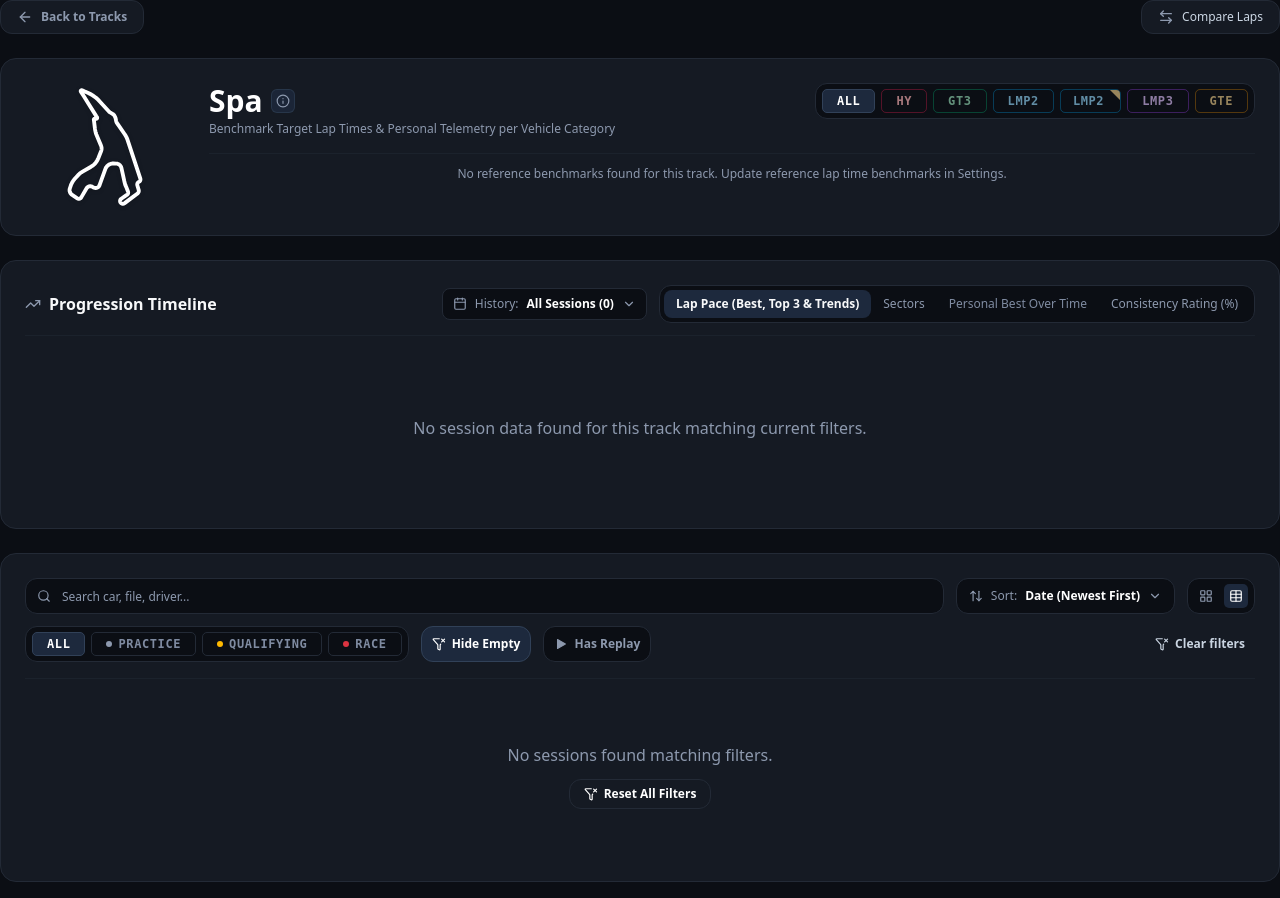
Test: TrackDetail component › provides Reset All Filters button when car model is the sole active filter and clears it on click
This screenshot has width=1280, height=898.
expect the text "No sessions found matching filters." is shown: met, box [508,744,772,766]
Click the button "Reset All Filters": (640, 794) [569,779,711,809]
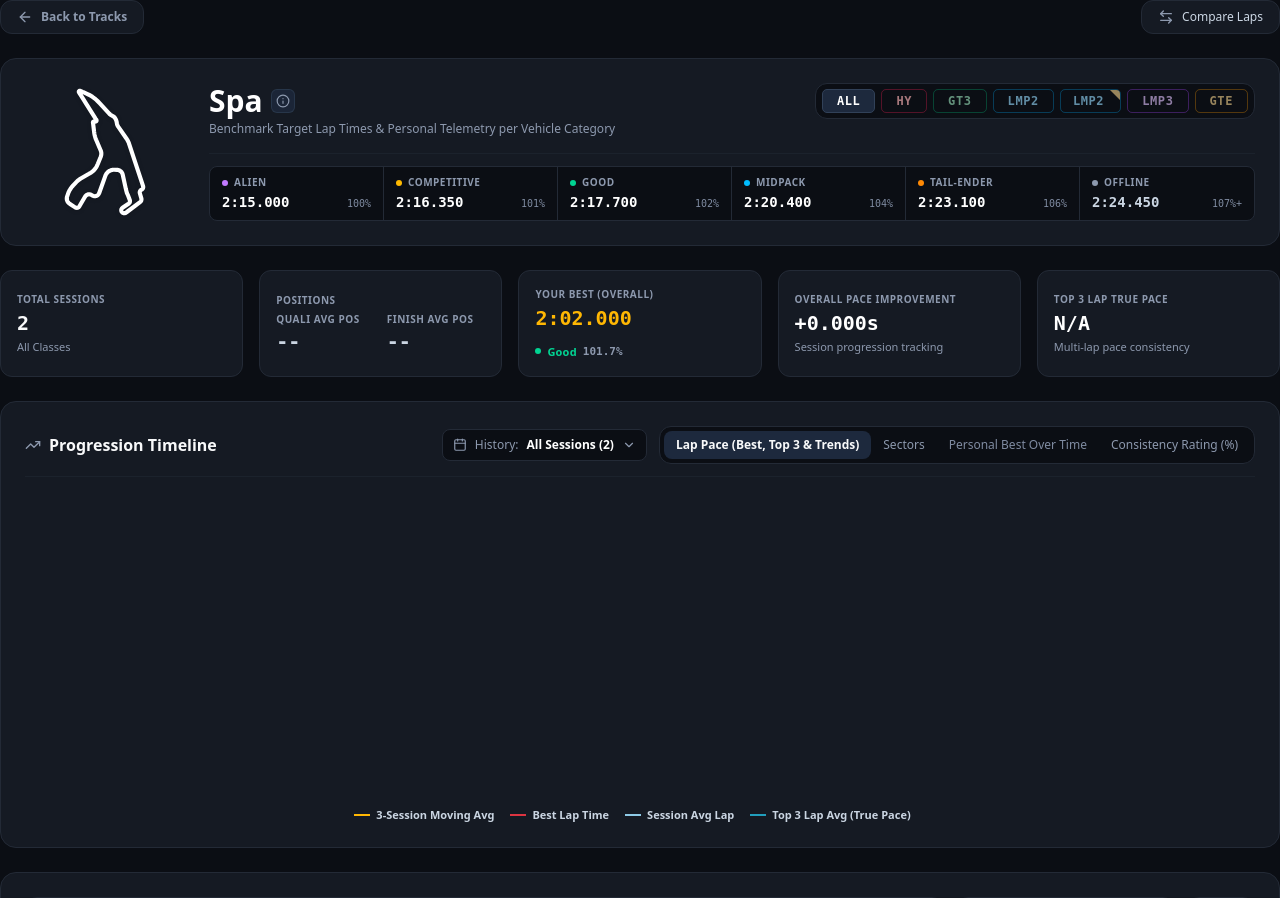
expect the text "No sessions found matching filters." is gone: met
